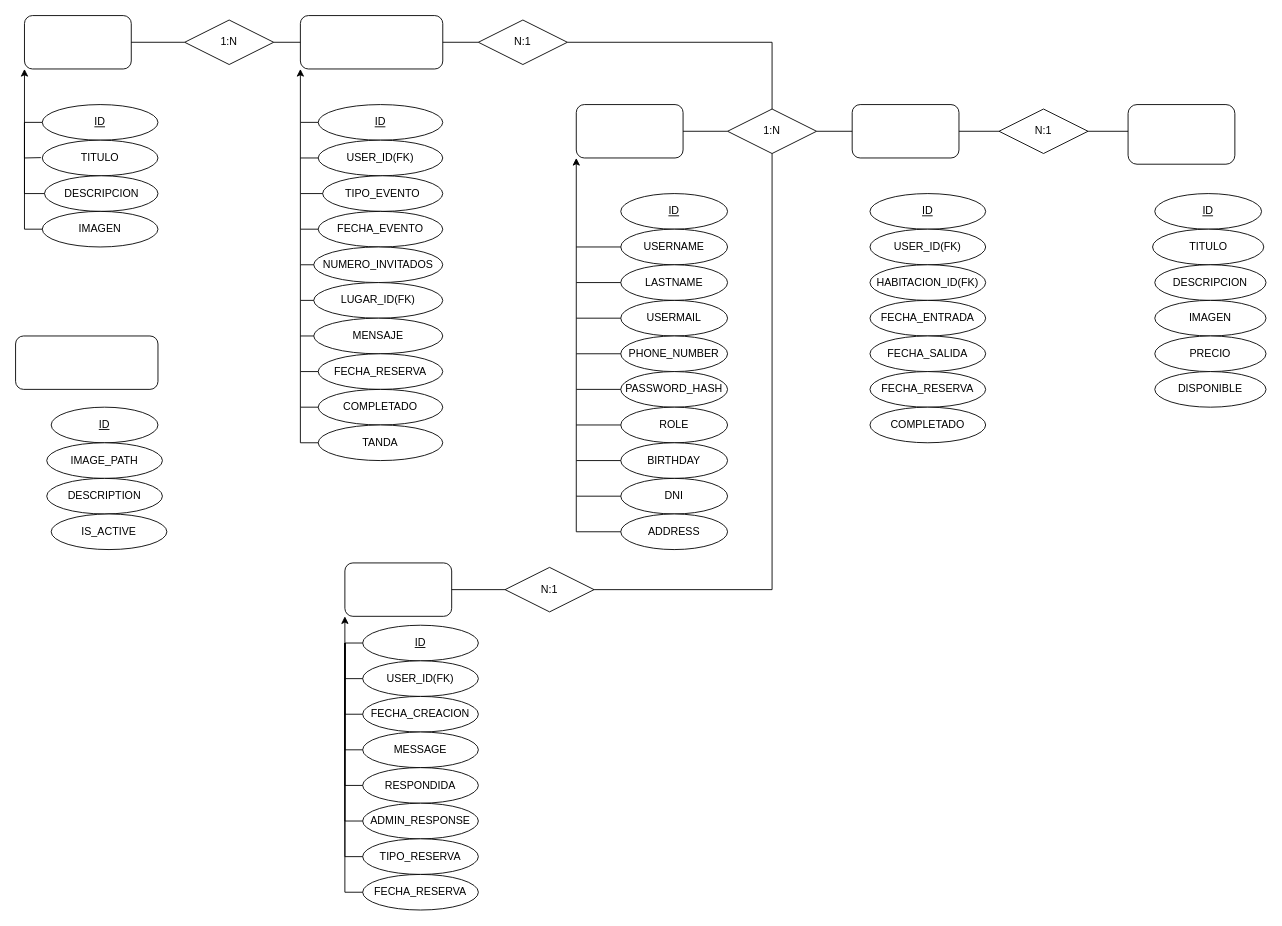
Image size: 1282x926. Some labels were removed from this diagram. The box of each missing label's shape, as (x1, y1, x2, y2) in pixels:
CAROUSEL_IMAGES: (15, 335, 158, 389)
CONSULTAS: (344, 562, 452, 616)
HABITACIONES: (1127, 104, 1235, 164)
LUGARES: (24, 15, 131, 69)
RESERVAS: (851, 104, 959, 158)
RESERVAS_EVENTOS: (299, 15, 443, 69)
USERS: (575, 104, 683, 158)
